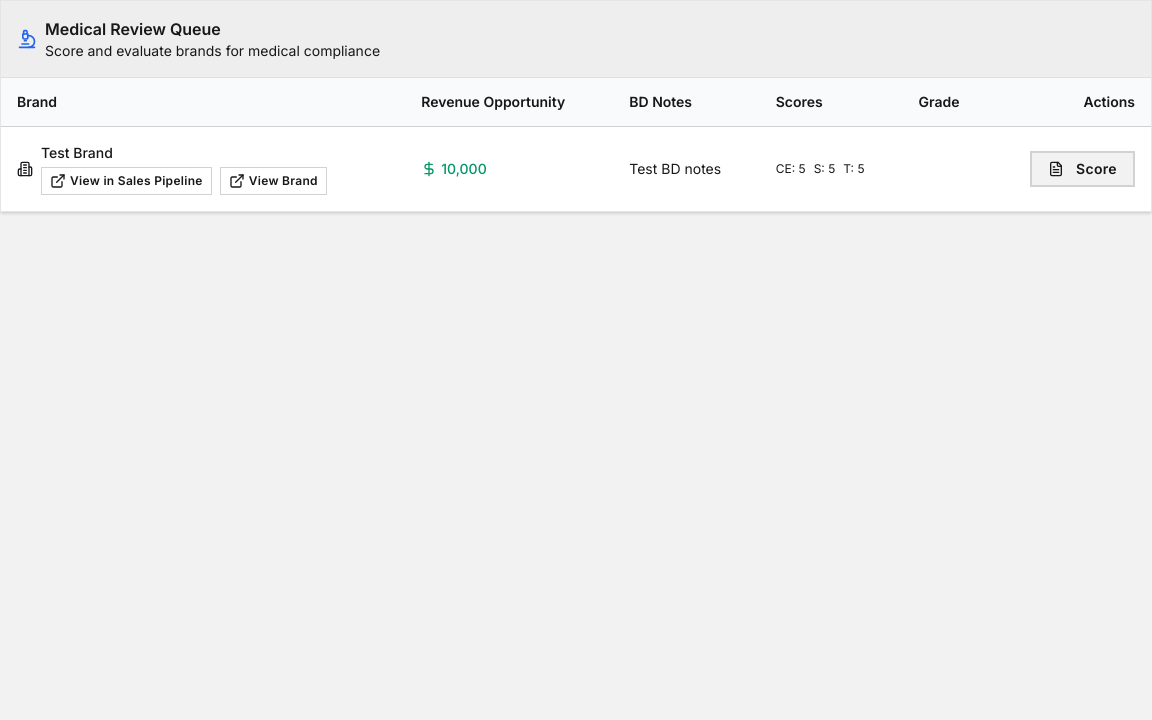
it: Medical Standards Engine › Scoring Criteria › BUG: Should have Safety Profile scoring slider
Expected: the text "Test Brand" is shown, [41, 144, 113, 160]
// Click the "Score" button to open the dialog
What coordinates should you click on to do the following:
click the button "Score"
I would click on:
 (1082, 168)
Its box is [1030, 150, 1135, 186].
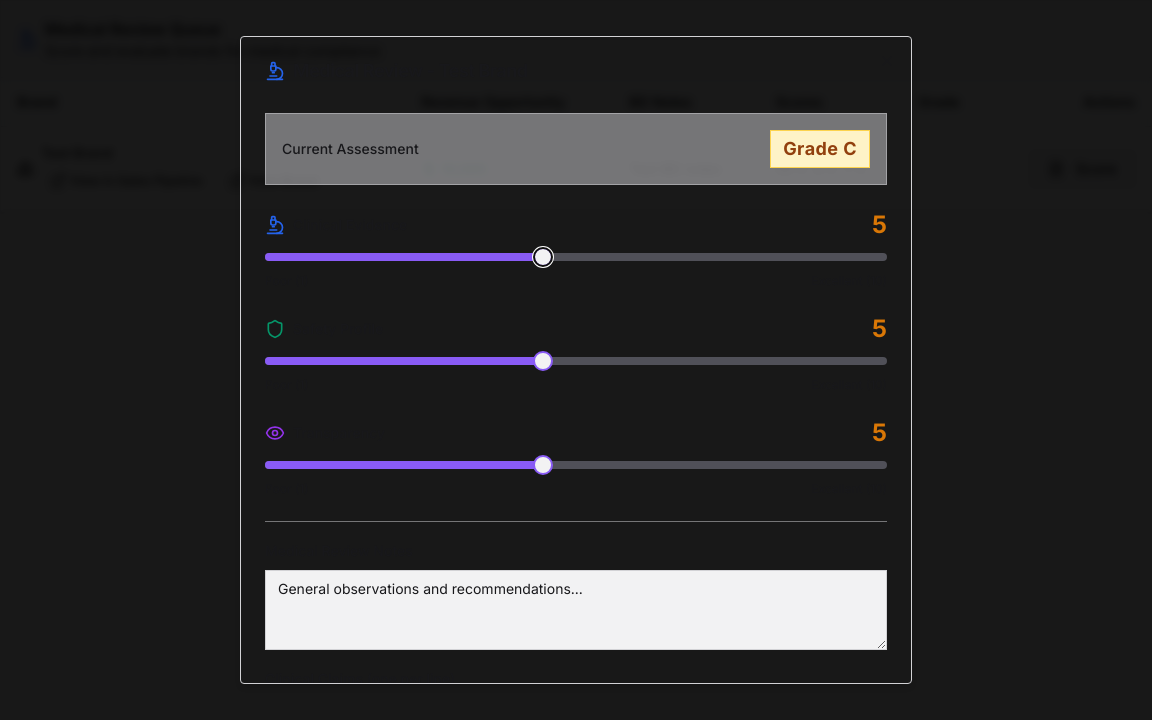
Result: the dialog is shown at [240, 36, 912, 684]
